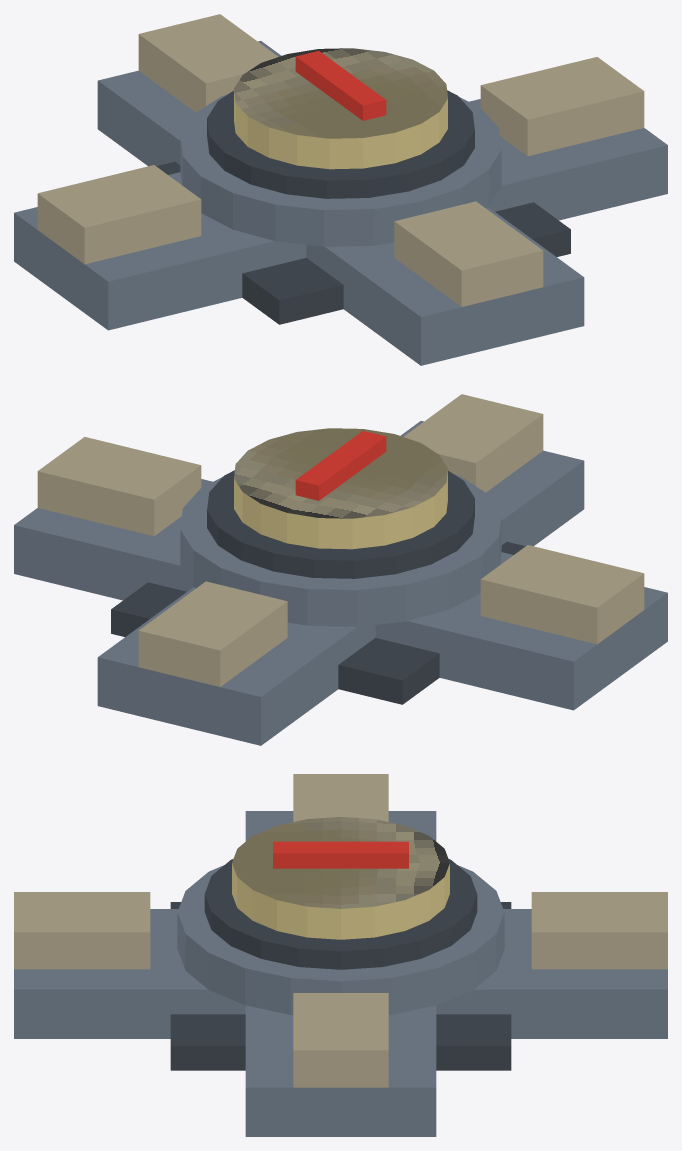
File: Building_PowerSwitch.glb
The picture shows the model from 3 angles, top to bottom: view 1: azimuth 30°, elevation 25°; view 2: azimuth 150°, elevation 25°; view 3: azimuth 270°, elevation 25°; orthographic projection.
Visible parts, largest first — view 1: PowerSwitch; view 2: PowerSwitch; view 3: PowerSwitch.
Boxes of the visible parts, x1,y1,x2,y2 form: PowerSwitch: (14,14,667,365); PowerSwitch: (14,394,667,745); PowerSwitch: (14,774,667,1136).
Bounding box in the file's own units: 0.96 × 0.245 × 0.96.
1 material, 1 textured.
